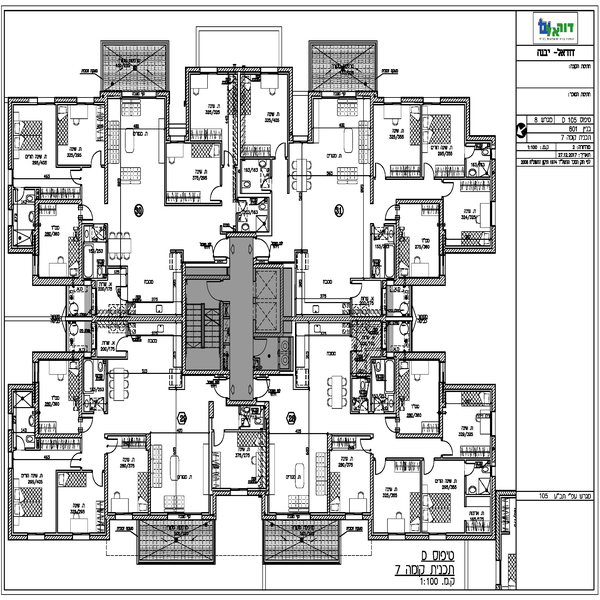room: (6, 383, 111, 543), (301, 87, 375, 280), (7, 95, 115, 208), (364, 454, 498, 542), (185, 272, 294, 377), (97, 87, 177, 213), (187, 67, 293, 145), (263, 429, 333, 520), (148, 423, 212, 521), (32, 196, 88, 286), (373, 94, 427, 183), (105, 428, 157, 514), (394, 200, 446, 284), (396, 349, 447, 434)
